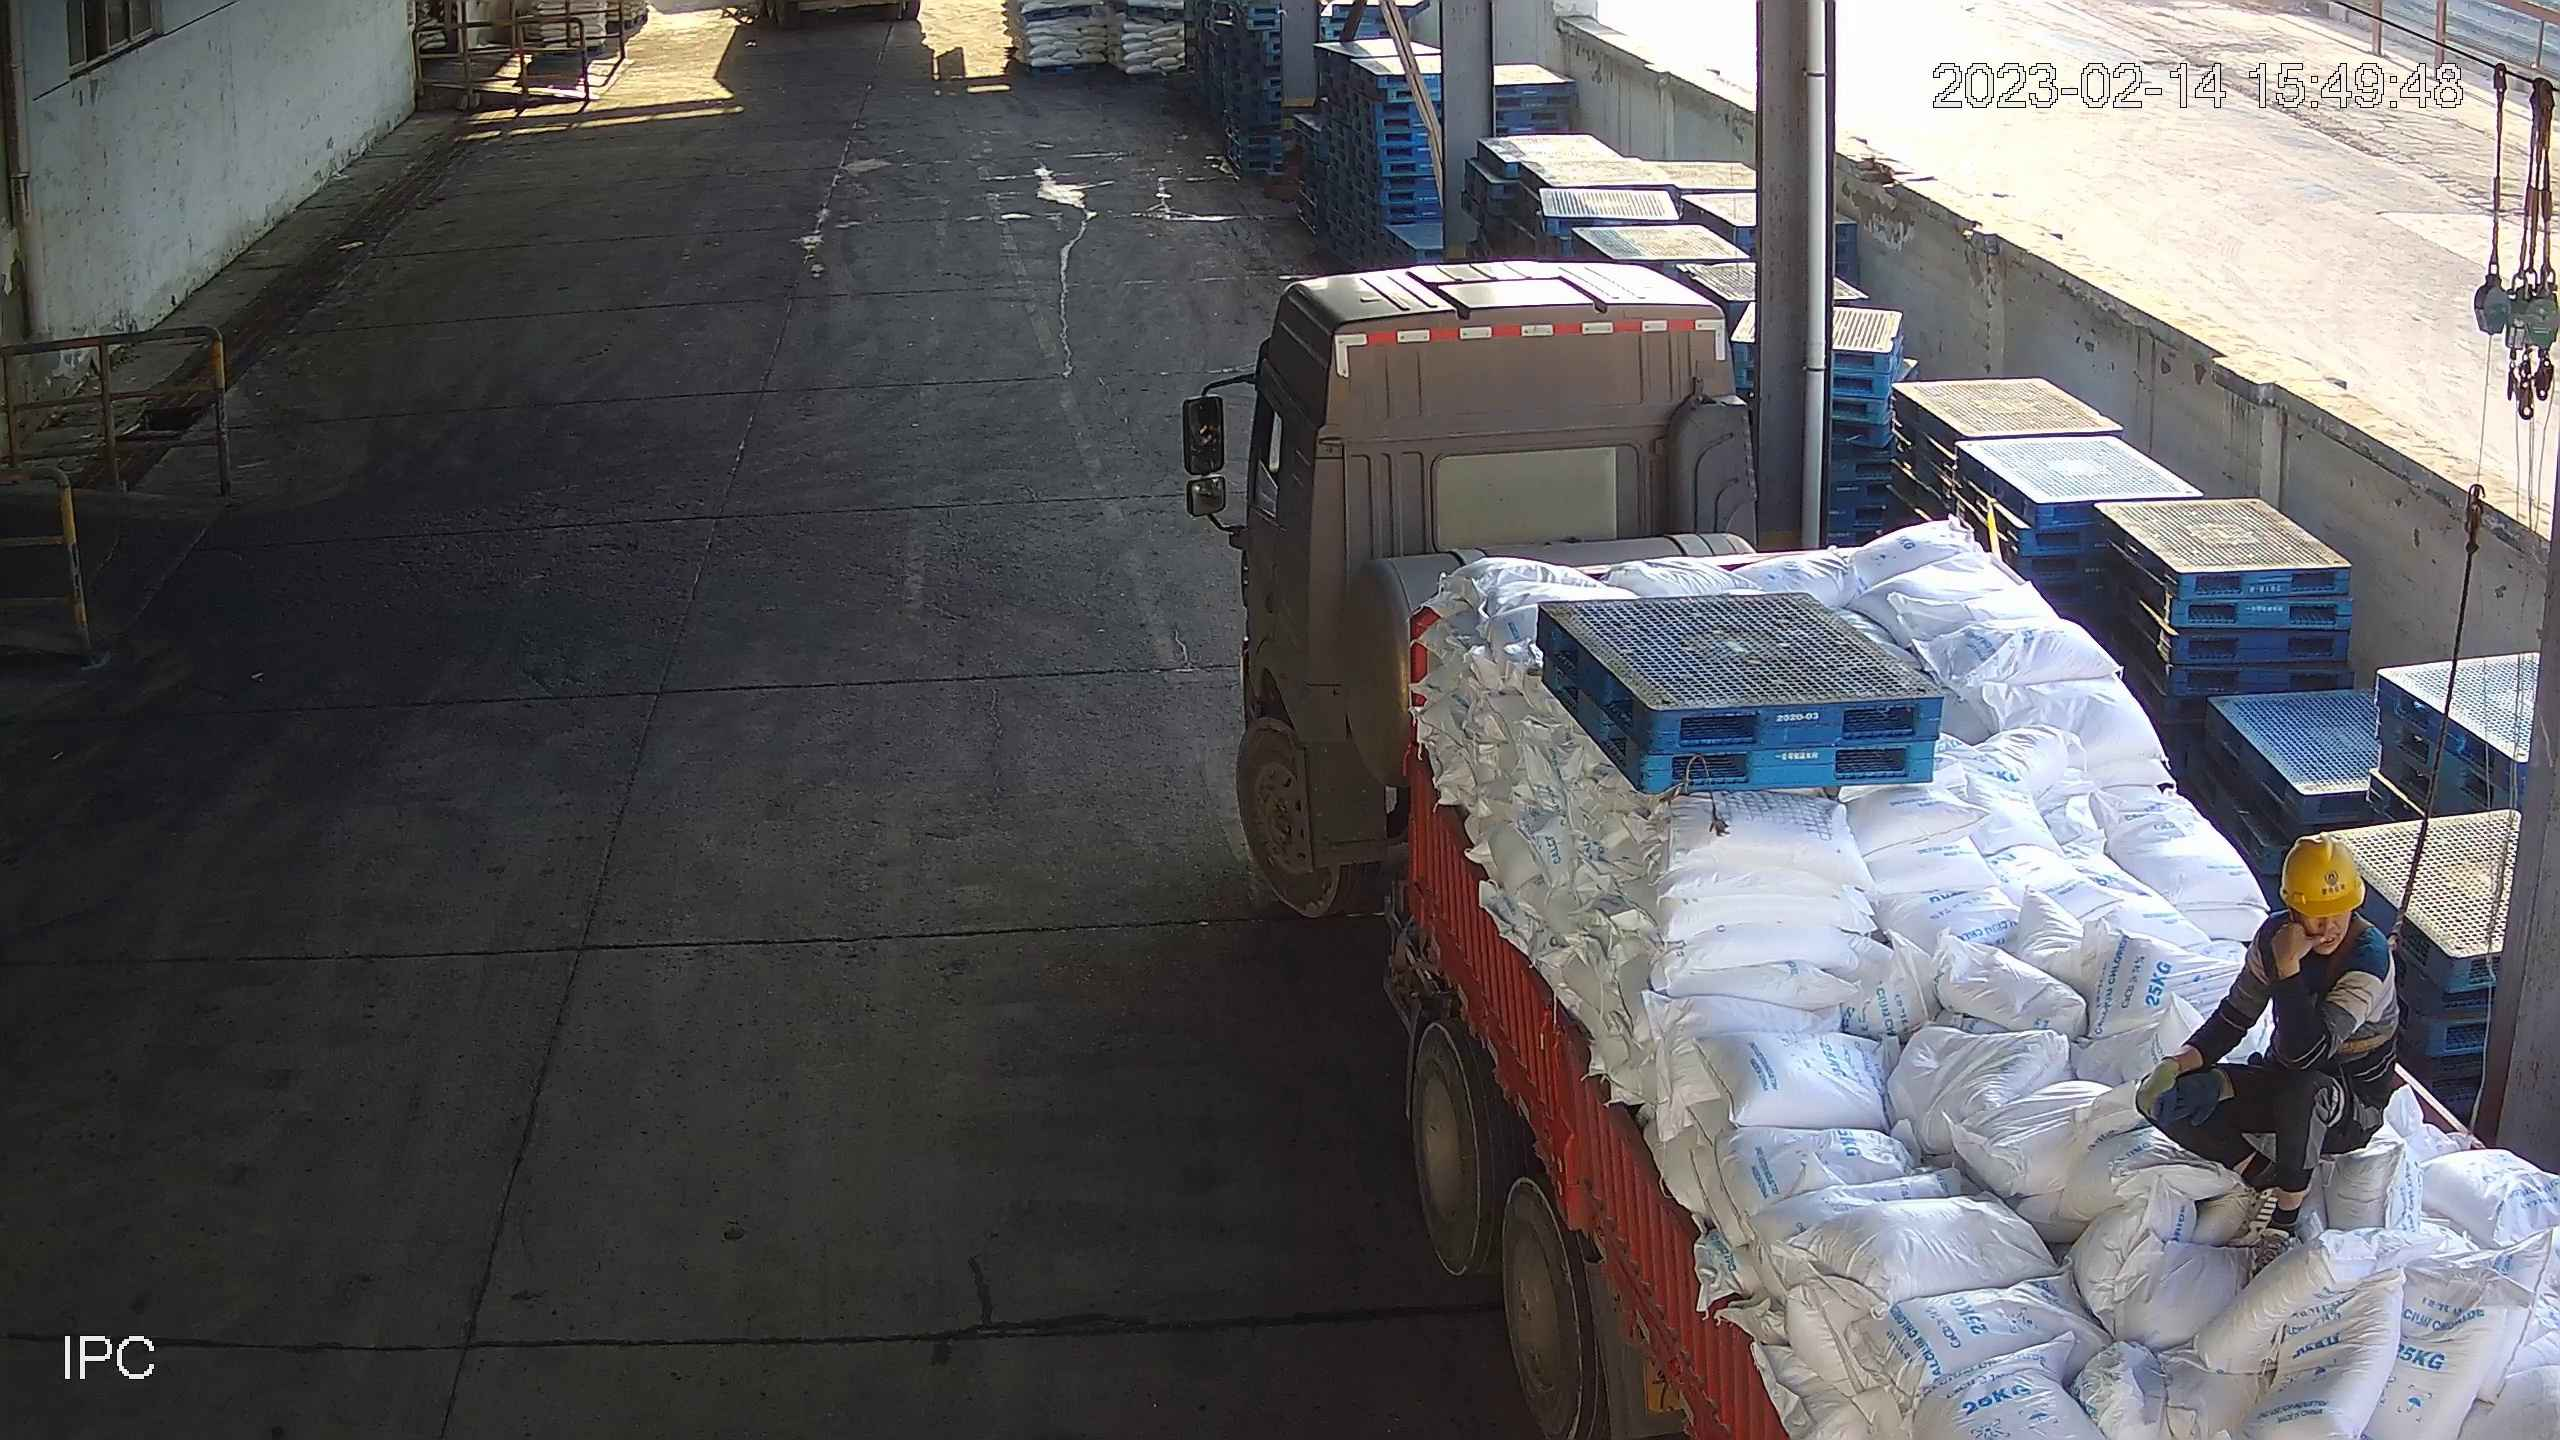belt: (2279, 917, 2412, 1054)
head: (2244, 830, 2400, 983)
helmet: (2279, 831, 2367, 919)
people: (2131, 830, 2400, 1287)
truck: (1233, 255, 2560, 1440)
